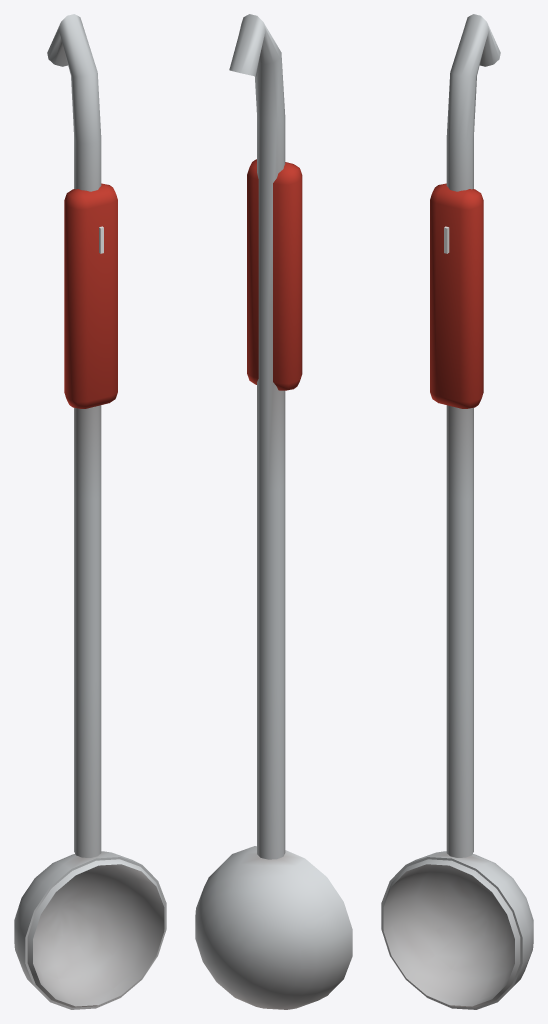
Rendered from fp-ladle-1.gltf.
3 renders of one model, left to right at view 1: azimuth 30°, elevation 25°; view 2: azimuth 150°, elevation 25°; view 3: azimuth 330°, elevation 25°, orthographic. The views are drawn at different scales.
Visible parts, largest first — view 1: model; view 2: model; view 3: model.
Boxes of the visible parts, box(x1,y1,x2,y2) form: model: box(14, 14, 166, 1009); model: box(195, 14, 352, 1009); model: box(381, 14, 533, 1009).
Size of the model in its own units: 0.0476 by 0.3142 by 0.0279.
